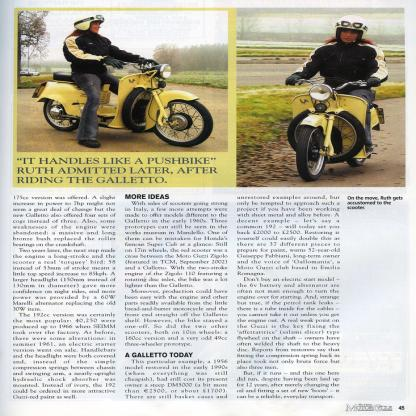Helmet: (335, 16, 368, 45), (72, 14, 106, 31)
